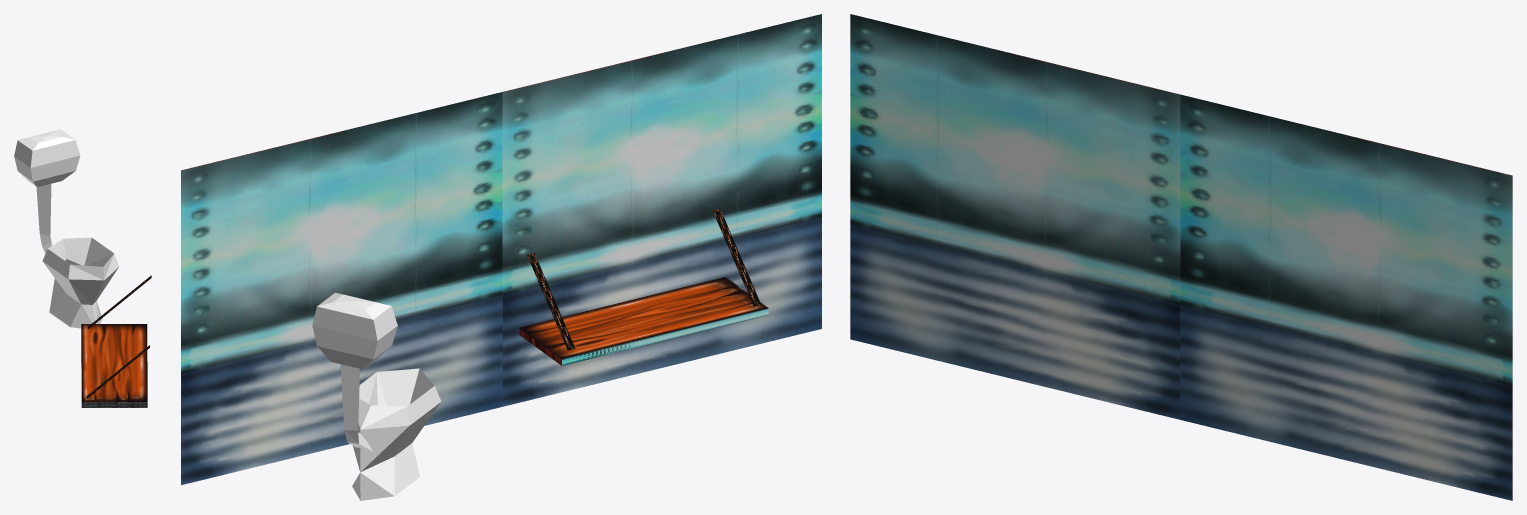
File: Polizei_Wand_K09_2554.glb
3 renders of one model, left to right at view 1: azimuth 30°, elevation 25°; view 2: azimuth 150°, elevation 25°; view 3: azimuth 270°, elevation 25°, orthographic. The views are drawn at different scales.
Parts seen in each view (by area): view 1: pCubeShape18, pSphereShape79, pSphereShape80, pCylinderShape158, pPlaneShape355, pPlaneShape354; view 2: pPlaneShape356, pCubeShape18, pSphereShape79, pSphereShape80, pCylinderShape158, pPlaneShape354, pPlaneShape355; view 3: pPlaneShape356.
Part boxes in pixels (x1,y1,x2,y2): pCubeShape18: (81,324,147,407); pSphereShape79: (42,237,119,328); pSphereShape80: (14,129,80,187); pCylinderShape158: (36,183,52,253); pPlaneShape355: (86,345,149,398); pPlaneShape354: (88,275,151,328); pPlaneShape356: (181,14,821,485); pCubeShape18: (519,277,768,365); pSphereShape79: (352,368,441,500); pSphereShape80: (312,292,397,369); pCylinderShape158: (340,364,372,451); pPlaneShape354: (527,253,575,350); pPlaneShape355: (713,209,760,306); pPlaneShape356: (850,14,1512,500).
Size of the model in its own units: 0.4391 by 0.3891 by 0.7177.
Materials: 7 (4 with a texture image).
